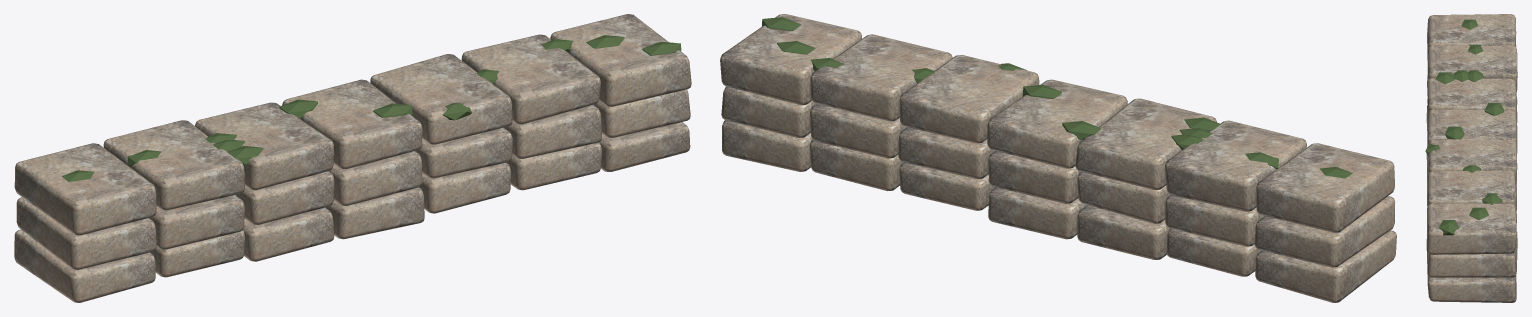
The model's file is ruined_wall.glb.
3 renders of one model, left to right at view 1: azimuth 30°, elevation 25°; view 2: azimuth 150°, elevation 25°; view 3: azimuth 270°, elevation 25°, orthographic. The views are drawn at different scales.
Parts seen in each view (by area): view 1: Worn masonry; view 2: Worn masonry; view 3: Worn masonry.
Part boxes in pixels (x1,y1,x2,y2): Worn masonry: (14,14,691,302); Worn masonry: (720,14,1396,302); Worn masonry: (1425,14,1517,302).
Bounding box in the file's own units: 8.82 × 1.45 × 1.56.
Materials: 2 (1 with a texture image).
